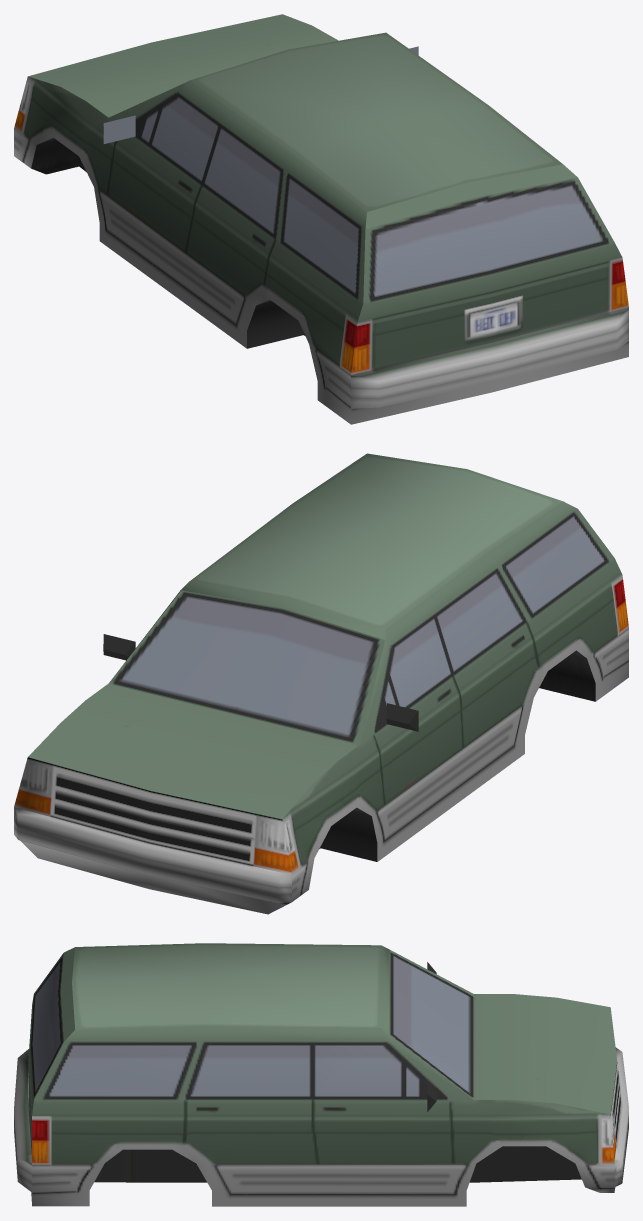
The model's file is Vehicles_SUV.FBX.
3 renders of one model, top to bottom at view 1: azimuth 30°, elevation 25°; view 2: azimuth 150°, elevation 25°; view 3: azimuth 270°, elevation 25°, orthographic. The views are drawn at different scales.
Parts seen in each view (by area): view 1: Vehicles_SUV; view 2: Vehicles_SUV; view 3: Vehicles_SUV.
Part boxes in pixels (box(x1,y1,x2,y2)): Vehicles_SUV: box(14, 14, 628, 424); Vehicles_SUV: box(14, 453, 628, 914); Vehicles_SUV: box(14, 943, 628, 1206).
Size of the model in its own units: 107 by 63.7 by 209.
Materials: 1 (1 with a texture image).
